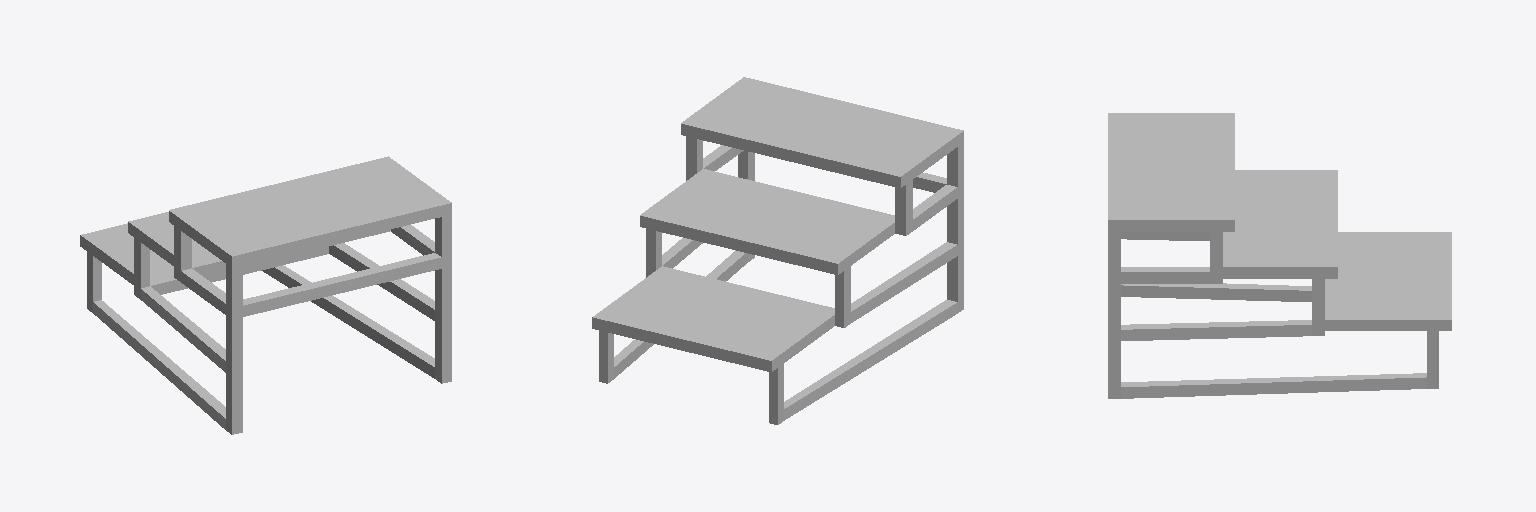
The model's file is escabaux.obj.
3 renders of one model, left to right at view 1: azimuth 30°, elevation 25°; view 2: azimuth 150°, elevation 25°; view 3: azimuth 270°, elevation 25°, orthographic.
Parts seen in each view (by area): view 1: Cube; view 2: Cube; view 3: Cube.
Part boxes in pixels (x1,y1,x2,y2): Cube: (80, 156, 451, 434); Cube: (592, 77, 963, 424); Cube: (1108, 113, 1451, 398).
Size of the model in its own units: 4 by 3.1 by 5.42.